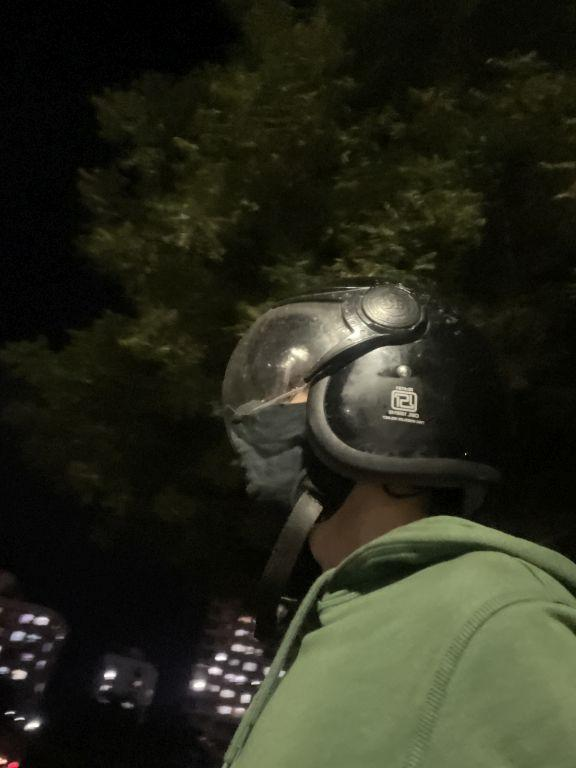helmet: (199, 254, 532, 537)
